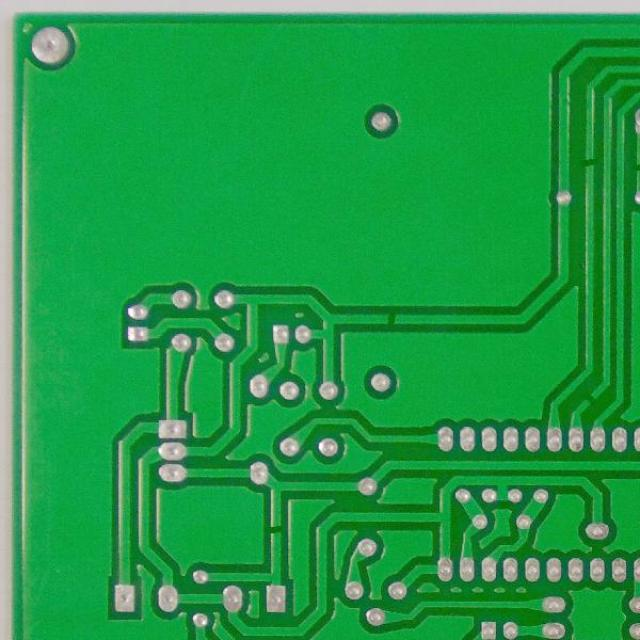Open_Circuit: (380, 307, 403, 332), (578, 149, 599, 176), (264, 516, 285, 542), (579, 386, 601, 410)
